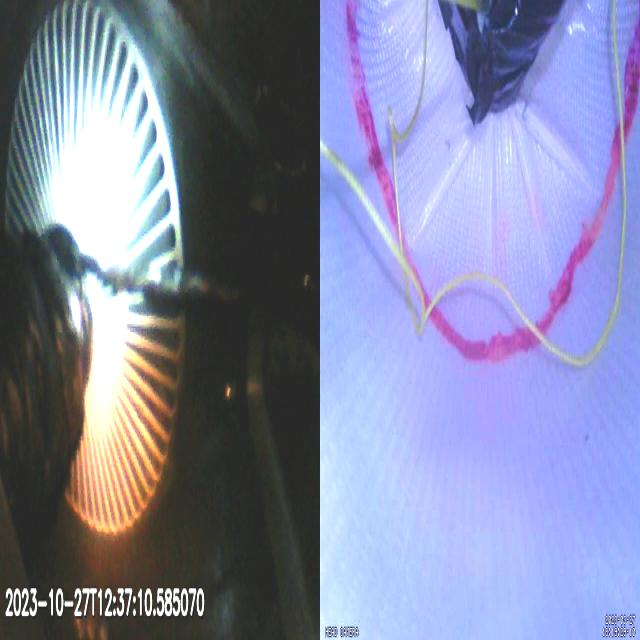red-circle: (343, 2, 640, 362)
